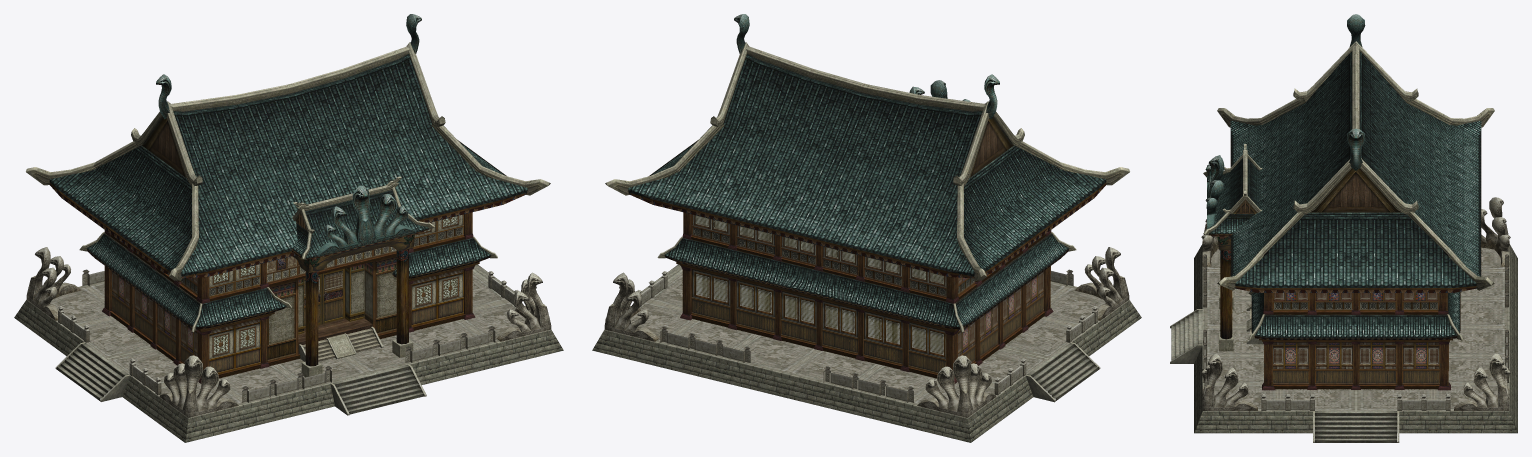
File: gls_a_01.glb
3 views of the same model, side by side, from view 1: azimuth 30°, elevation 25°; view 2: azimuth 150°, elevation 25°; view 3: azimuth 270°, elevation 25° (orthographic). The views are drawn at different scales.
Parts seen in each view (by area): view 1: gls_A_01, gls_A_01_01; view 2: gls_A_01, gls_A_01_01; view 3: gls_A_01, gls_A_01_01.
Part boxes in pixels (x1,y1,x2,y2): gls_A_01: (14, 42, 563, 442); gls_A_01_01: (26, 14, 551, 417); gls_A_01: (592, 42, 1141, 442); gls_A_01_01: (604, 14, 1129, 417); gls_A_01: (1170, 41, 1517, 442); gls_A_01_01: (1201, 14, 1510, 410).
Bounding box in the file's own units: 24.99 × 16.44 × 18.88.
6 materials, 6 textured.
